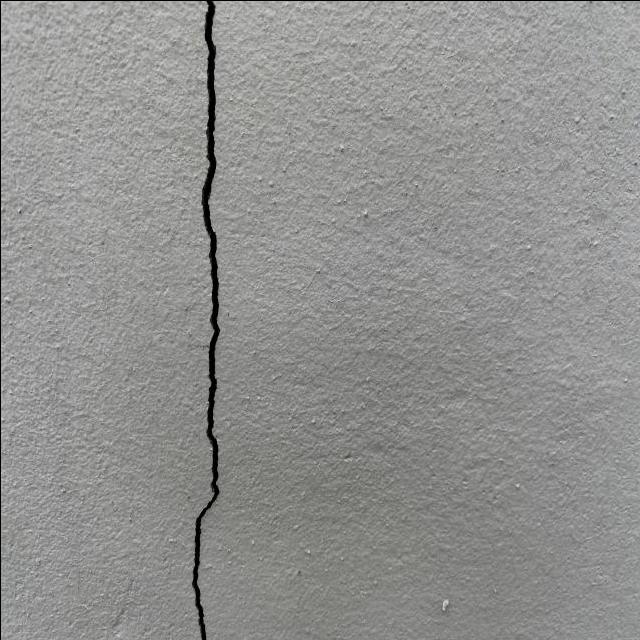SurfaceCrack: (139, 1, 275, 640)
